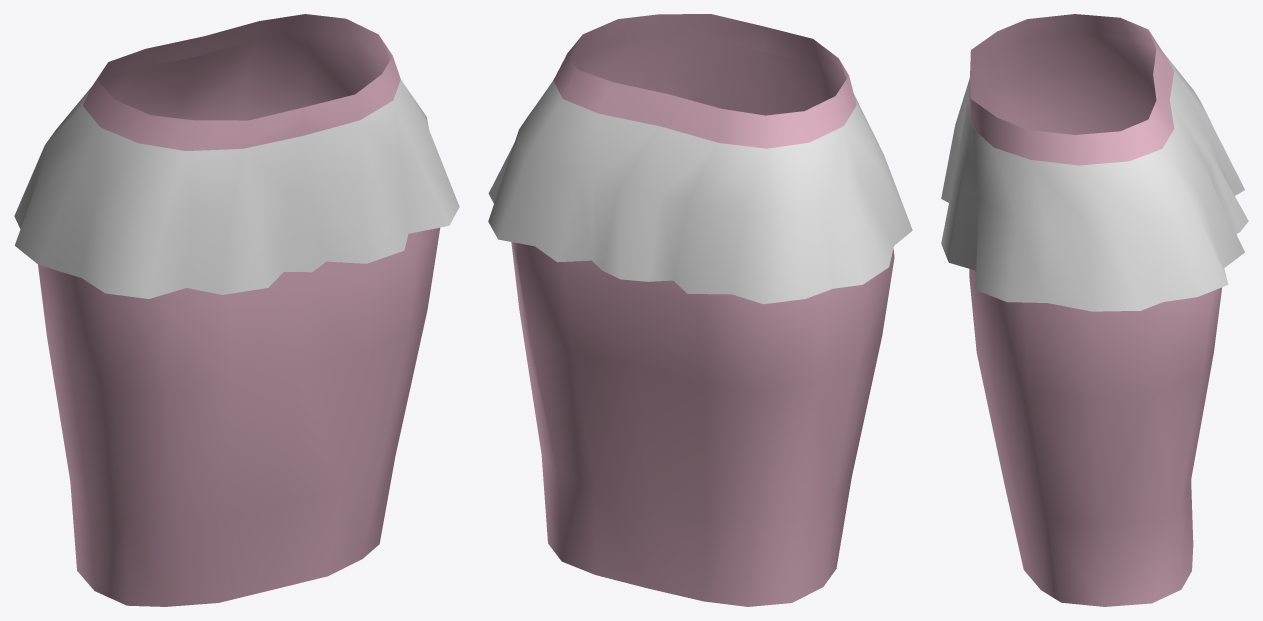
File: peplum_skirt.glb
3 views of the same model, side by side, from view 1: azimuth 30°, elevation 25°; view 2: azimuth 150°, elevation 25°; view 3: azimuth 270°, elevation 25° (orthographic). The views are drawn at different scales.
Visible parts, largest first — view 1: peplum_skirt; view 2: peplum_skirt; view 3: peplum_skirt.
Part boxes in pixels (x1,y1,x2,y2): peplum_skirt: (14,14,459,606); peplum_skirt: (488,14,912,606); peplum_skirt: (941,14,1248,606).
Size of the model in its own units: 0.3751 by 0.455 by 0.2696.
